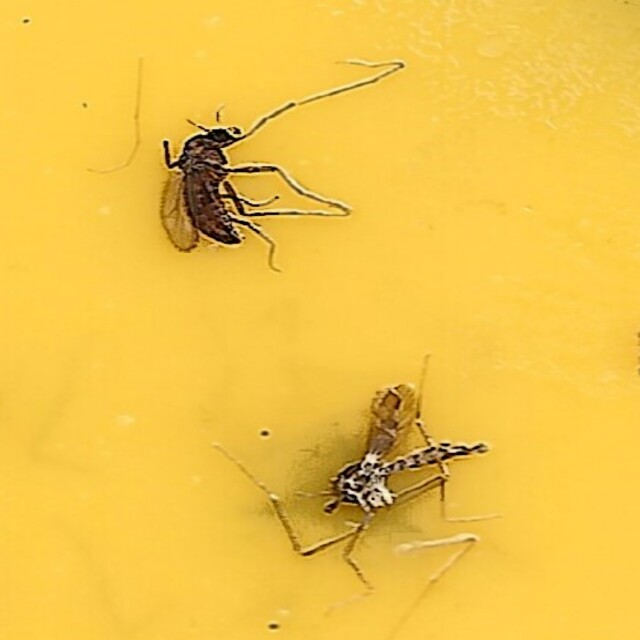Nematocera: (152, 116, 347, 266), (317, 381, 488, 524)
